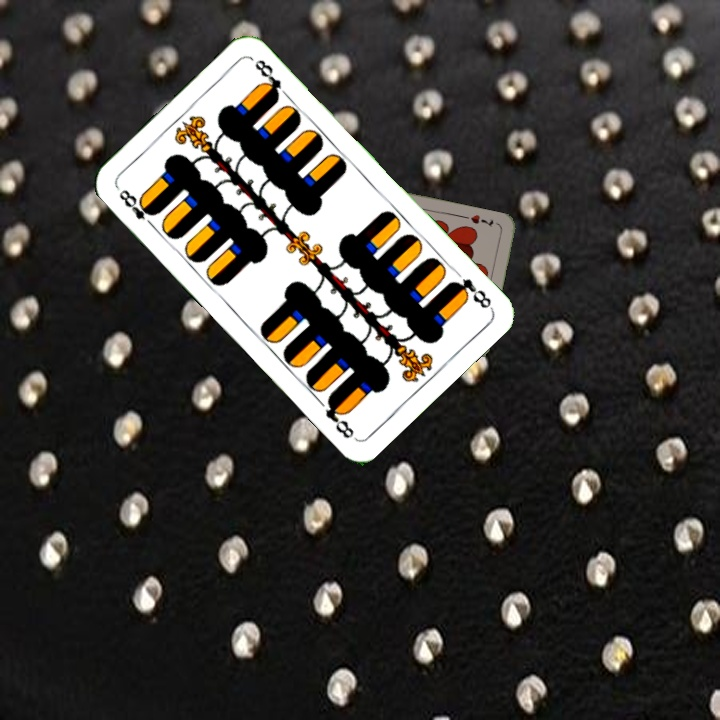E8: (115, 185, 159, 231), (446, 274, 494, 311)
H7: (466, 211, 496, 229)
